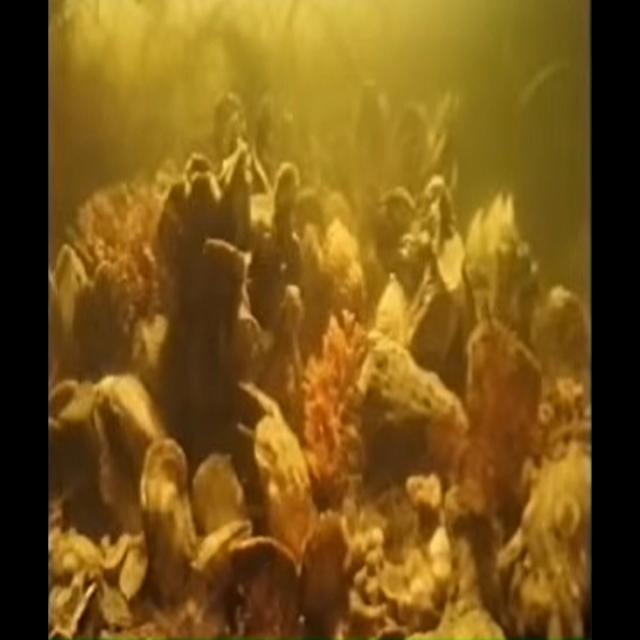Oyster- Indeterminate: (197, 237, 249, 321)
Oyster-Closed: (340, 472, 457, 639), (496, 444, 592, 639), (247, 410, 323, 562), (81, 364, 170, 470), (133, 435, 199, 567), (229, 536, 299, 638), (176, 448, 253, 537), (183, 505, 257, 593), (300, 513, 348, 638), (217, 139, 269, 249), (265, 160, 304, 242), (55, 244, 88, 336), (159, 179, 193, 235), (189, 171, 221, 224), (292, 186, 324, 236), (69, 382, 96, 424)
Oyster-Open: (73, 264, 134, 379), (215, 375, 287, 445), (179, 148, 214, 180)
